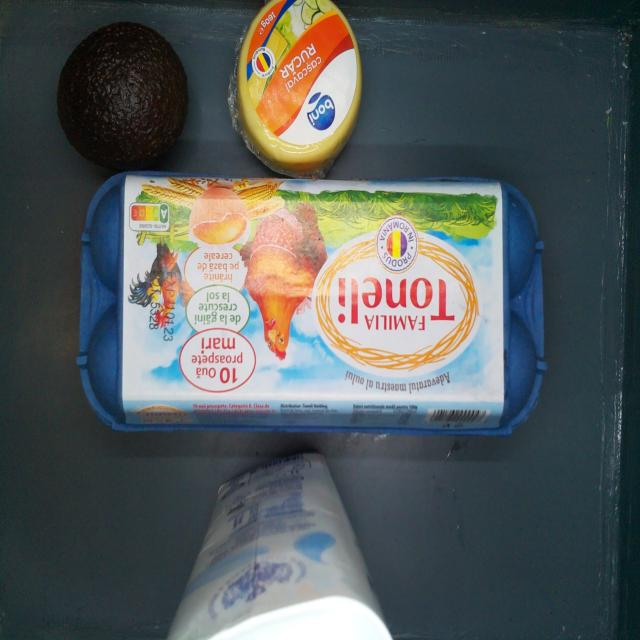avocado: (59, 23, 188, 170)
cheese: (232, 2, 362, 175)
eggs: (82, 175, 546, 438)
milk: (170, 454, 392, 640)
